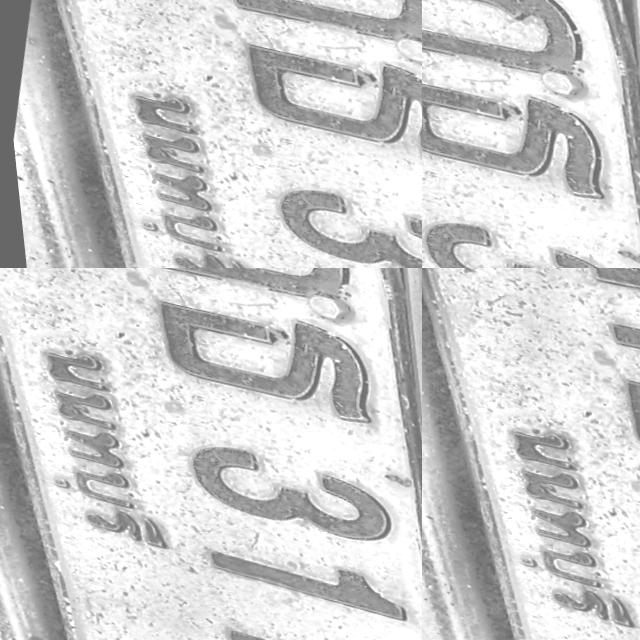license-plate: (422, 268, 640, 640)
